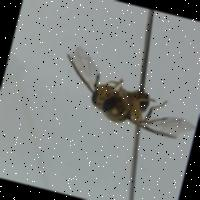Oriental-fruit-fly: (36, 30, 200, 151)
